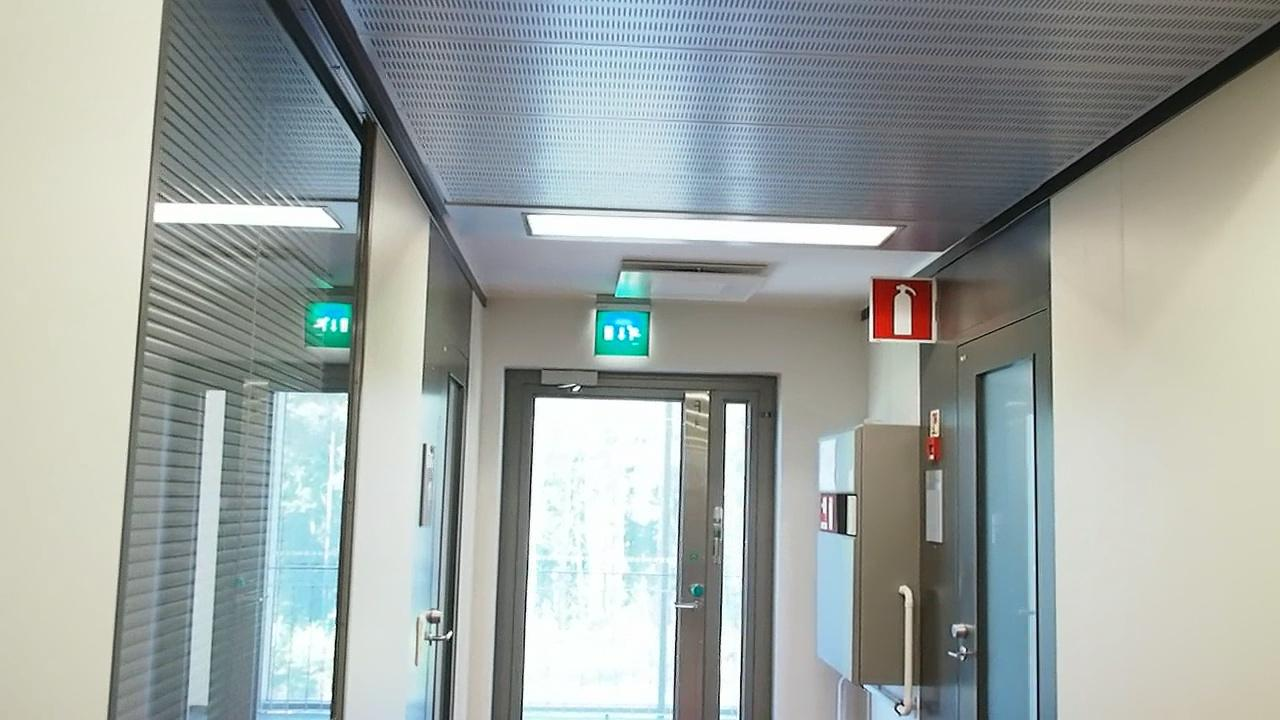exit: (591, 306, 655, 361)
fireextinguisher: (875, 277, 937, 344)
